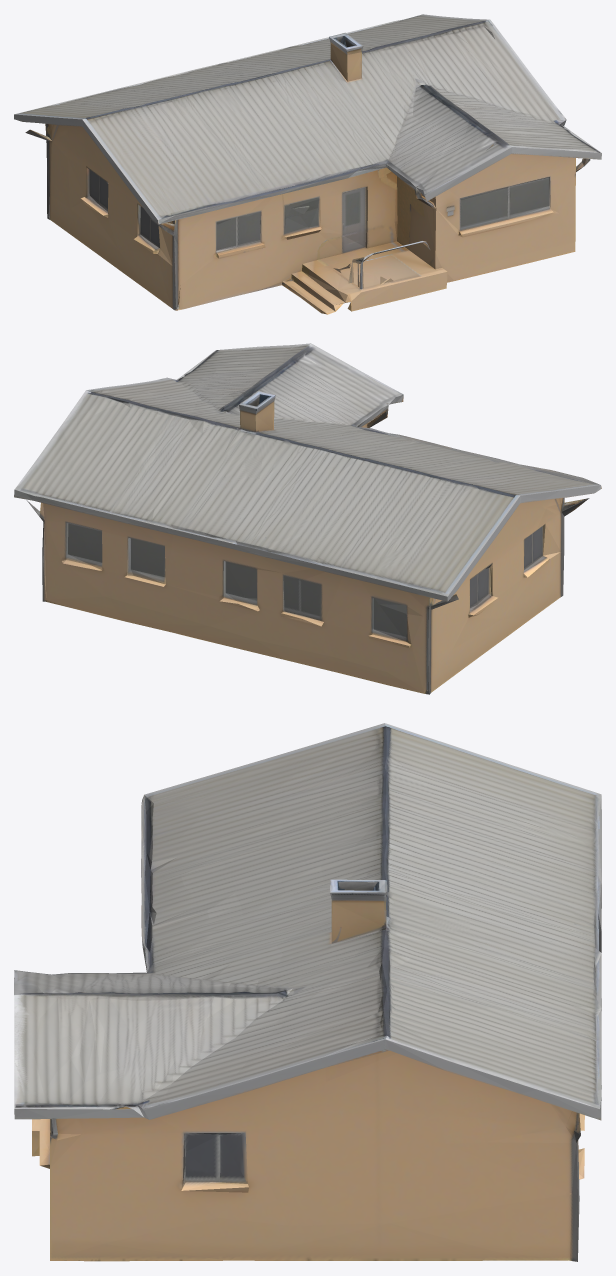
The model's file is TanHOuse.fbx.
3 views of the same model, one above another, from view 1: azimuth 30°, elevation 25°; view 2: azimuth 150°, elevation 25°; view 3: azimuth 270°, elevation 25° (orthographic). The views are drawn at different scales.
Parts seen in each view (by area): view 1: temp; view 2: temp; view 3: temp.
Boxes of the visible parts, x1=… form: temp: x1=14, y1=14, x2=601, y2=314; temp: x1=14, y1=343, x2=601, y2=694; temp: x1=14, y1=723, x2=601, y2=1261.
Bounding box in the file's own units: 200 × 80.25 × 157.
1 material, 1 textured.
